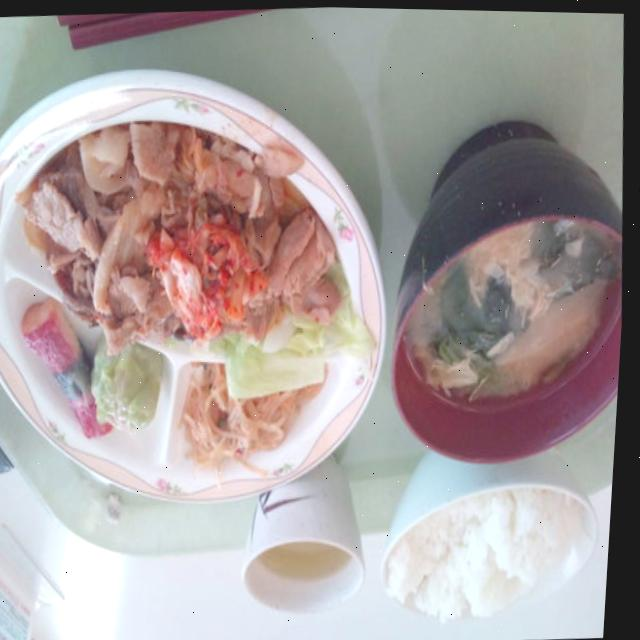带馅早点: (90, 339, 176, 444)
米饭主食: (382, 469, 612, 626)
